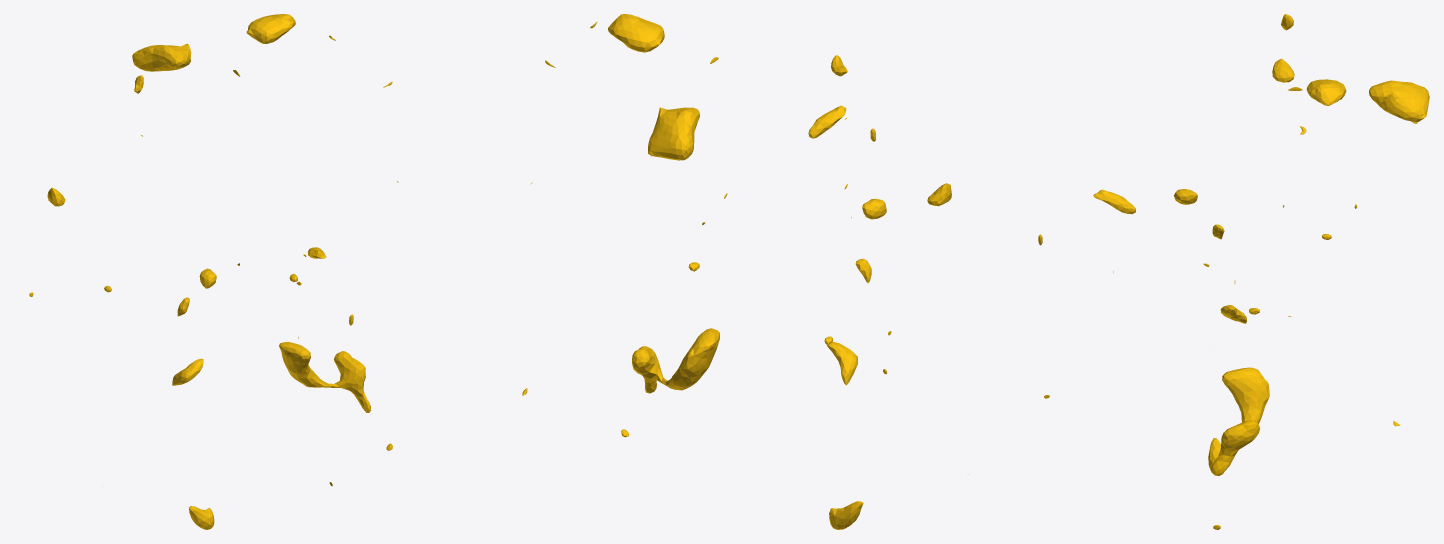
Rendered from case_30_penumbra.gltf.
The picture shows the model from 3 angles, left to right: view 1: azimuth 30°, elevation 25°; view 2: azimuth 150°, elevation 25°; view 3: azimuth 270°, elevation 25°; orthographic projection. The views are drawn at different scales.
Visible parts, largest first — view 1: penumbra; view 2: penumbra; view 3: penumbra.
Boxes of the visible parts, x1=… form: penumbra: x1=29, y1=14, x2=398, y2=529; penumbra: x1=522, y1=14, x2=951, y2=529; penumbra: x1=1038, y1=14, x2=1429, y2=529.
Bounding box in the file's own units: 1.77 × 1.79 × 1.4.
